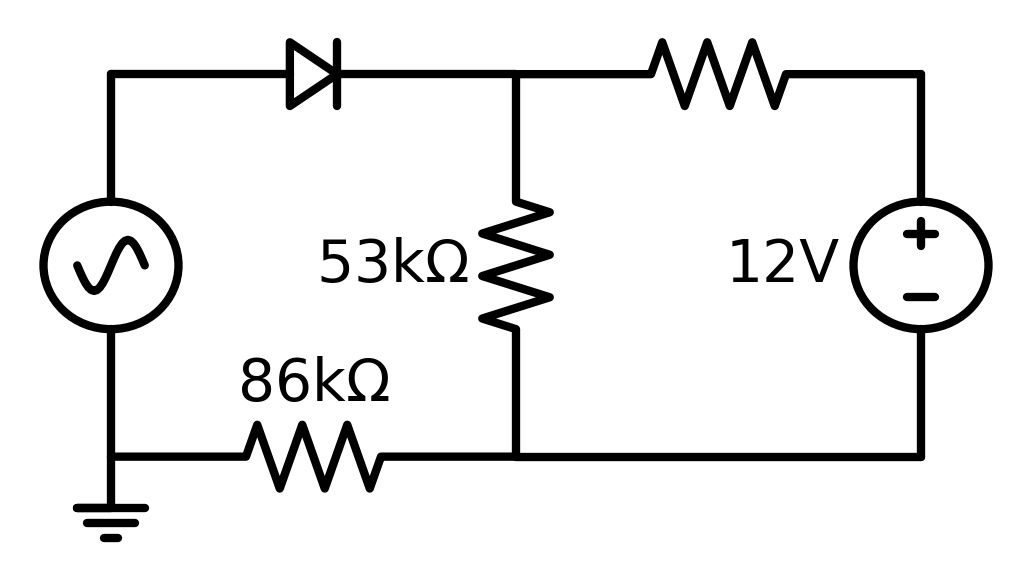diode: (265, 27, 359, 125)
ground: (64, 481, 170, 562)
resistor: (630, 22, 815, 129), (474, 191, 574, 351), (230, 417, 395, 494)
sourceac: (37, 193, 186, 342)
sourcedc: (843, 194, 1001, 345)
